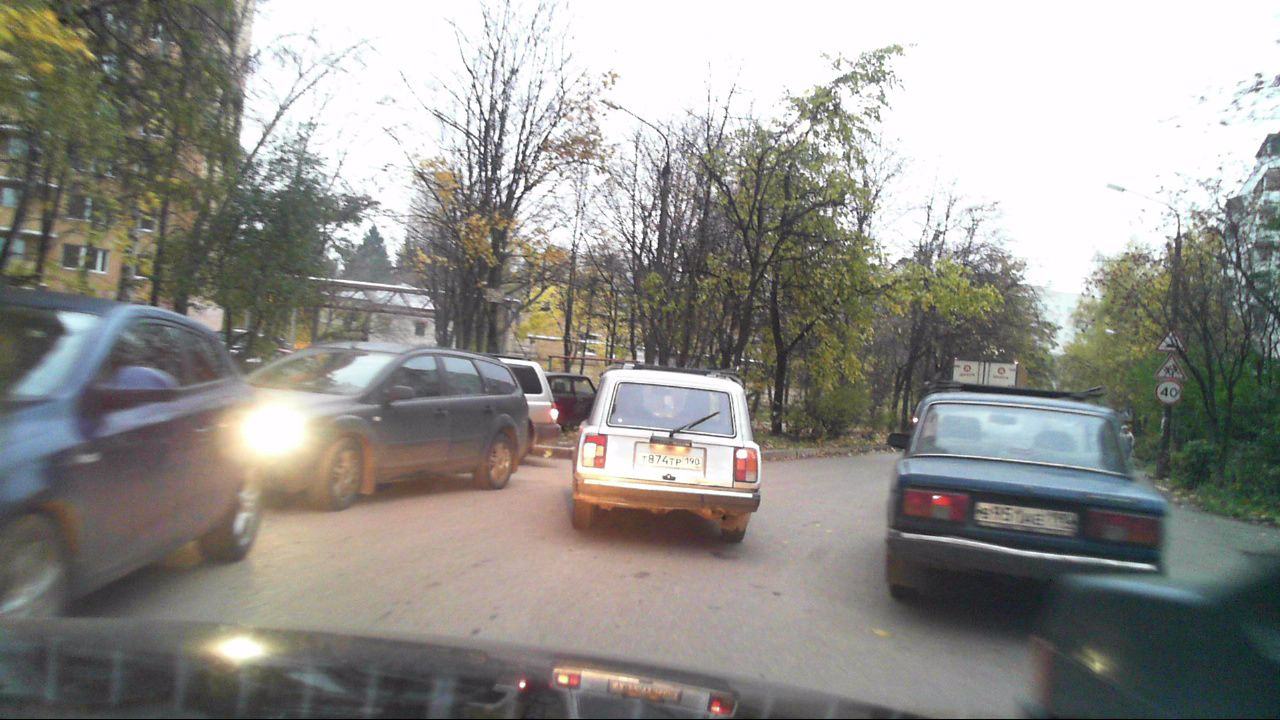speed_warning_40: (1156, 381, 1182, 405)
